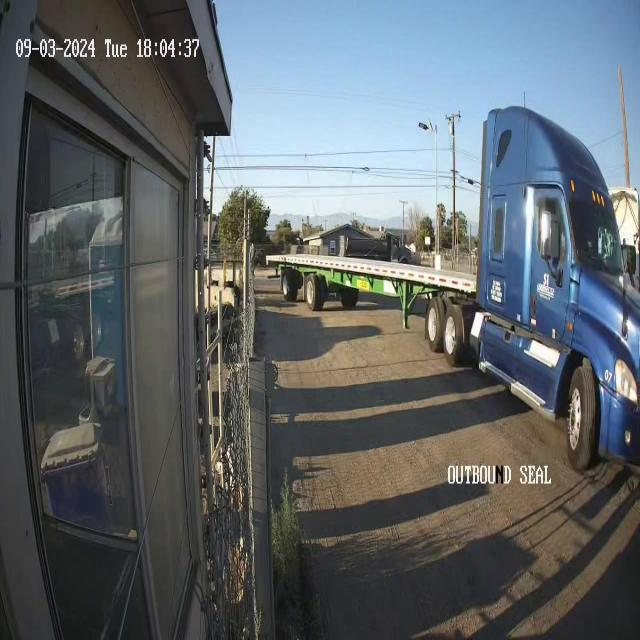TRUCK_IN: (266, 101, 639, 473)
